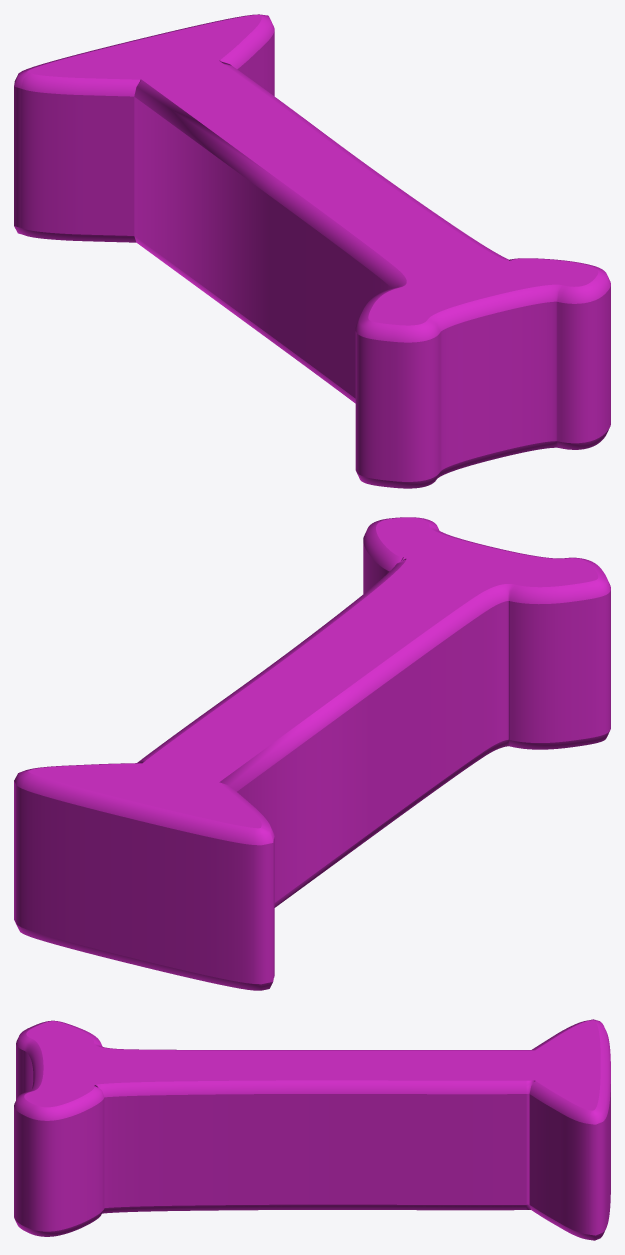
File: Letter_I.fbx
3 views of the same model, one above another, from view 1: azimuth 30°, elevation 25°; view 2: azimuth 150°, elevation 25°; view 3: azimuth 270°, elevation 25° (orthographic). The views are drawn at different scales.
Parts seen in each view (by area): view 1: Letter_I; view 2: Letter_I; view 3: Letter_I.
Part boxes in pixels (bbox=[...]): Letter_I: bbox=[14, 14, 610, 488]; Letter_I: bbox=[14, 517, 610, 990]; Letter_I: bbox=[14, 1019, 610, 1240].
Bounding box in the file's own units: 0.2333 × 0.14 × 0.5862.
